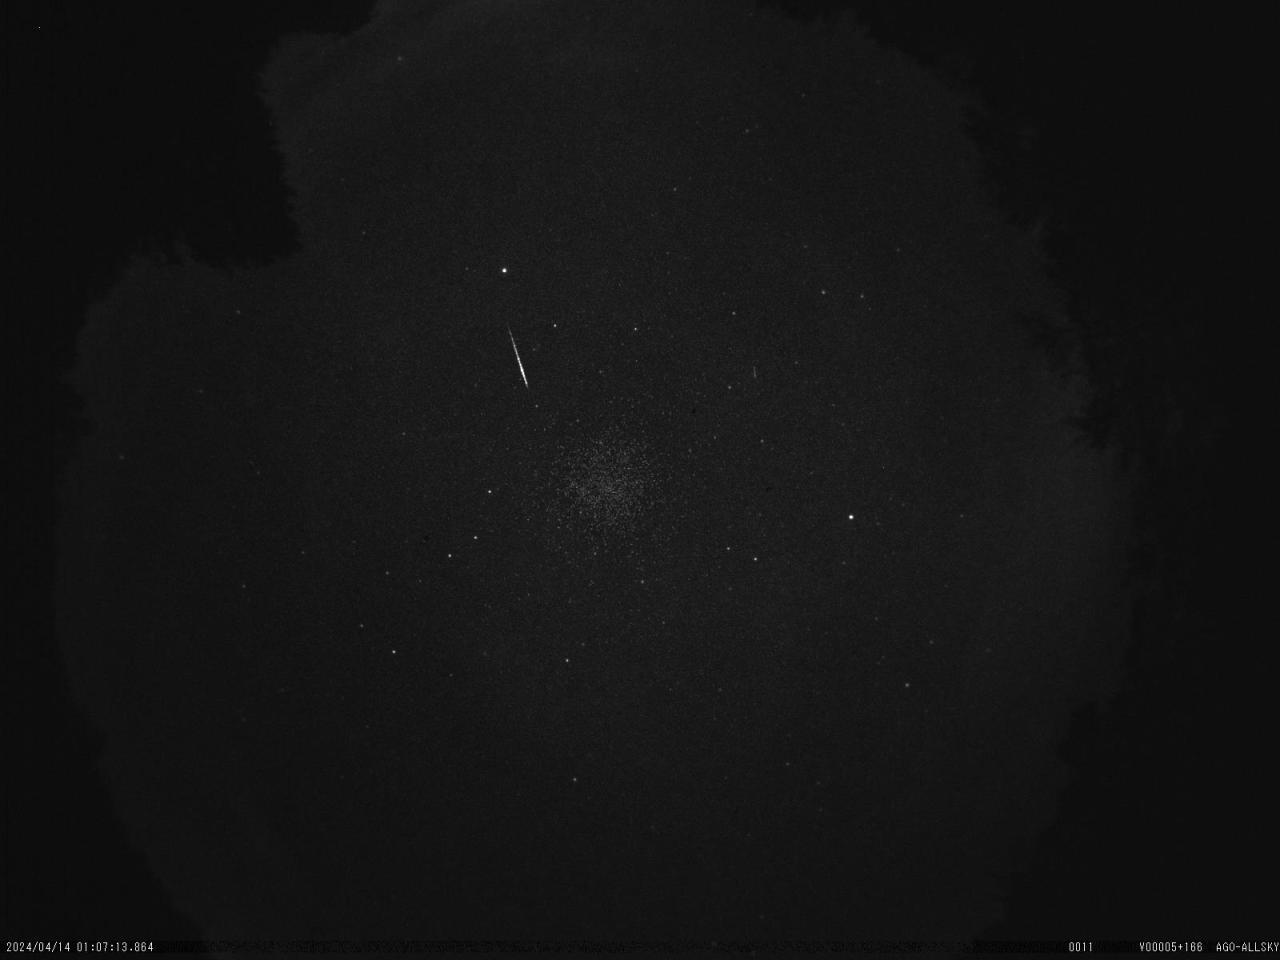Meteor: (509, 327, 528, 386)
